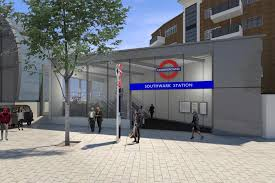London Underground: (156, 60, 180, 80)
